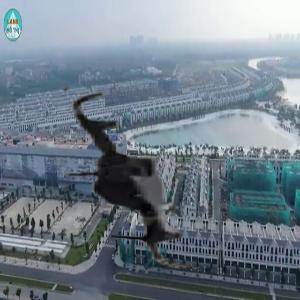drone: (31, 88, 224, 281)
